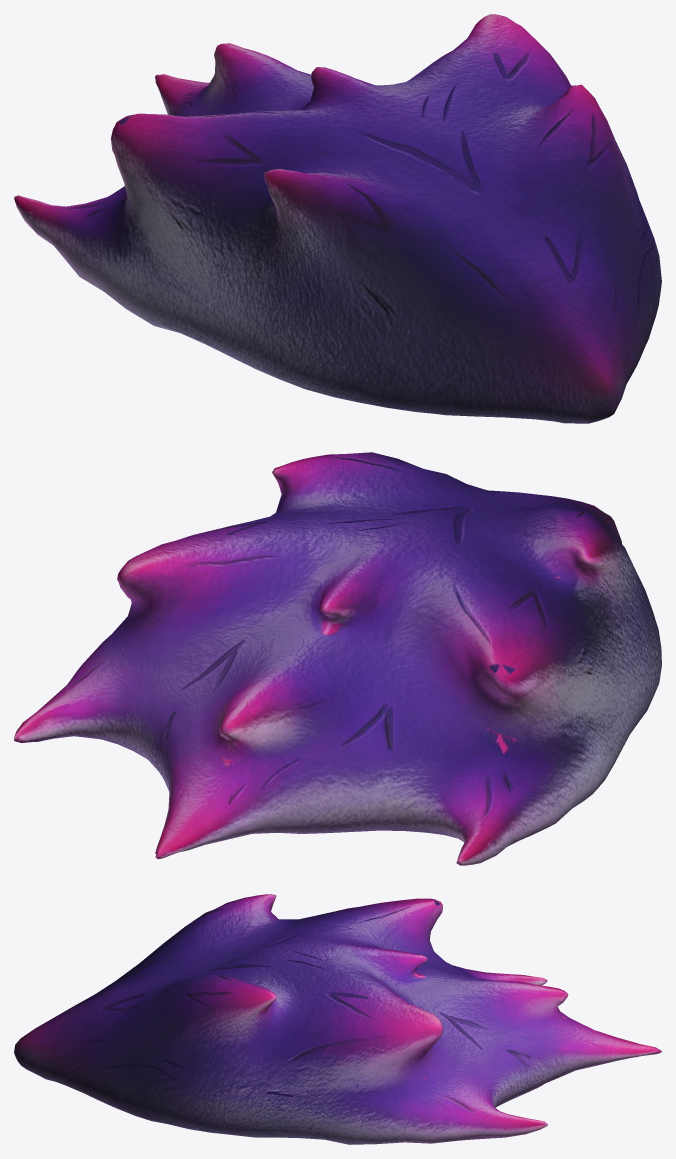
File: escama.fbx
3 renders of one model, top to bottom at view 1: azimuth 30°, elevation 25°; view 2: azimuth 150°, elevation 25°; view 3: azimuth 270°, elevation 25°, orthographic. The views are drawn at different scales.
Parts seen in each view (by area): view 1: escama; view 2: escama; view 3: escama.
Boxes of the visible parts, x1,y1,x2,y2 form: escama: [14, 14, 661, 423]; escama: [14, 452, 661, 865]; escama: [14, 894, 661, 1144].
Size of the model in its own units: 26.38 by 10.59 by 43.
1 material, 1 textured.
